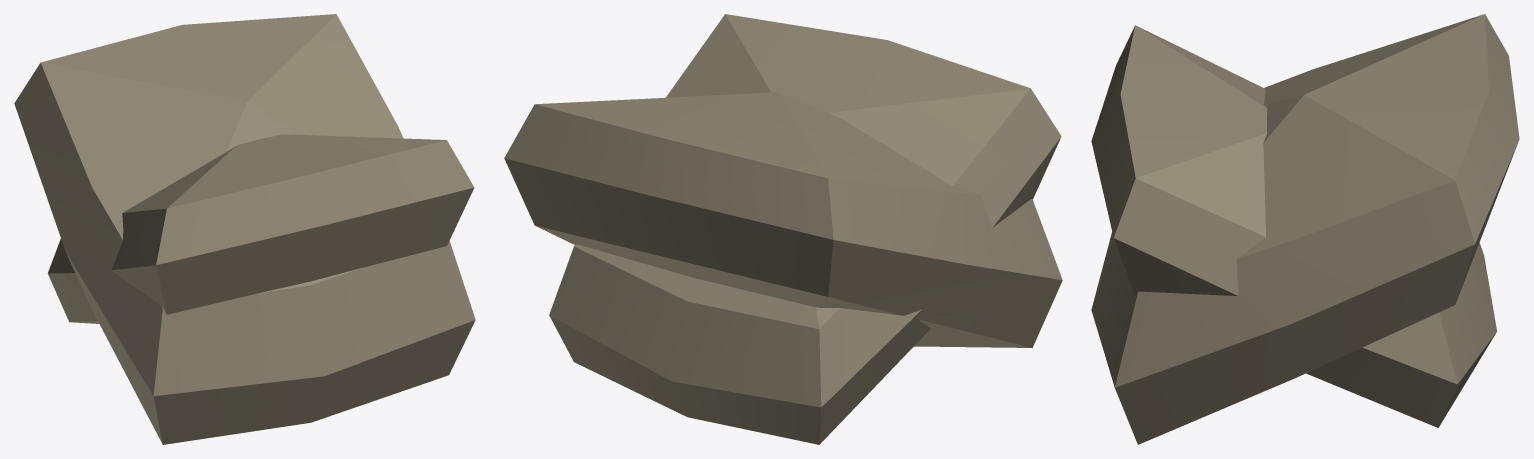
Rendered from Terrain_Stage2_Decoration_6.fbx.
The picture shows the model from 3 angles, left to right: view 1: azimuth 30°, elevation 25°; view 2: azimuth 150°, elevation 25°; view 3: azimuth 270°, elevation 25°; orthographic projection. The views are drawn at different scales.
Visible parts, largest first — view 1: terrain_shelf_409; view 2: terrain_shelf_409; view 3: terrain_shelf_409.
Part boxes in pixels (box(x1,y1,x2,y2)): terrain_shelf_409: box(14, 14, 475, 444); terrain_shelf_409: box(504, 14, 1062, 444); terrain_shelf_409: box(1091, 14, 1519, 444).
Bounding box in the file's own units: 51.57 × 37.64 × 48.4.
Materials: 1 (1 with a texture image).
